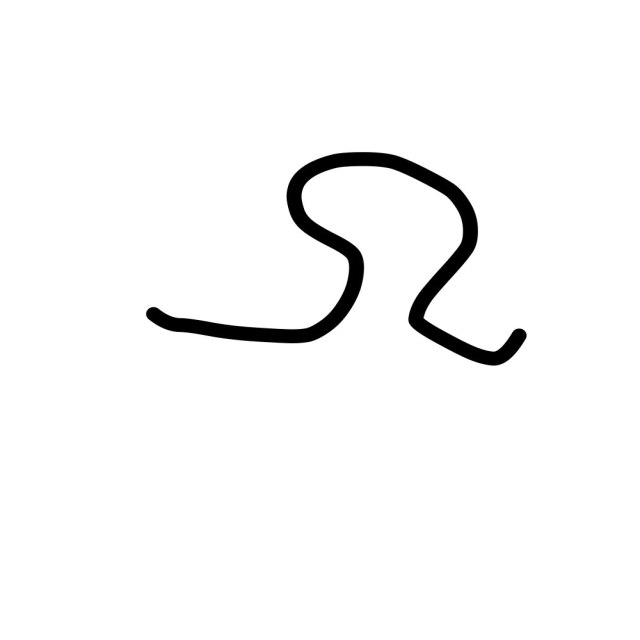ohms: (65, 75, 614, 438)
